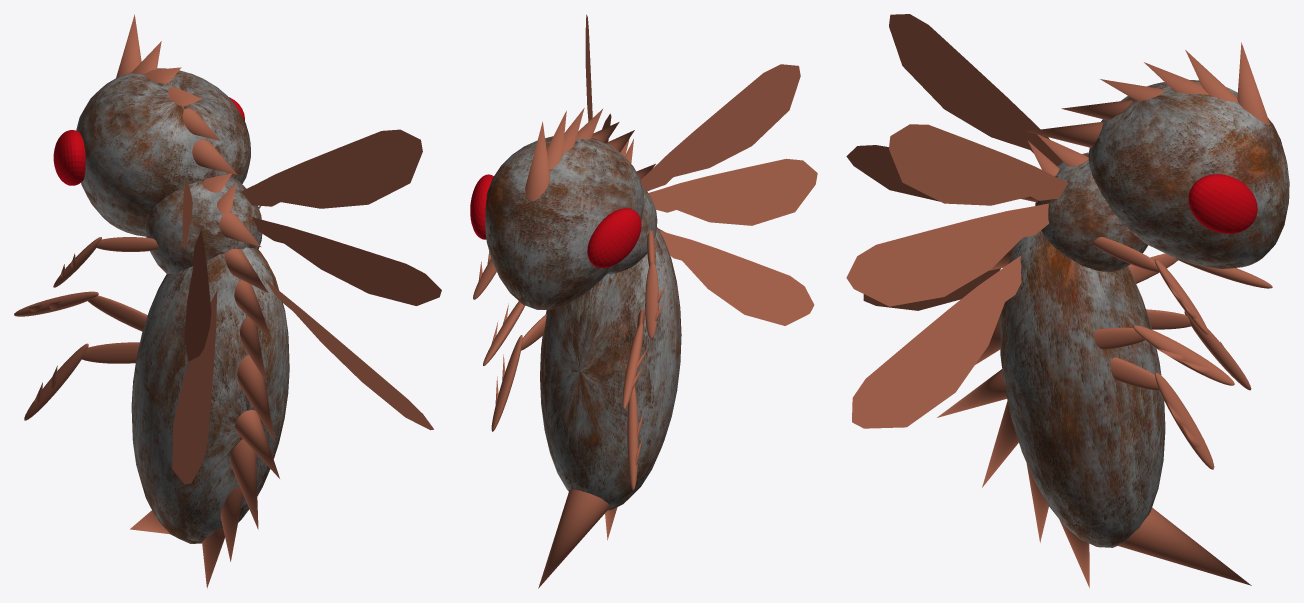
Rendered from wasp.fbx.
3 views of the same model, side by side, from view 1: azimuth 30°, elevation 25°; view 2: azimuth 150°, elevation 25°; view 3: azimuth 270°, elevation 25° (orthographic). The views are drawn at different scales.
Visible parts, largest first — view 1: Sphere.001, tete, naile.002, spike.017, naile, naile.001, Sphere, spike.005, Sphere.004, Sphere.002, noeil, Sphere.003 (+1 smaller); view 2: Sphere.001, tete, naile.002, naile, naile.001, noeil, spike.005, spike.017, Sphere.004, Sphere.002, Sphere.003, Sphere; view 3: Sphere.001, tete, naile.002, naile.001, naile, spike.017, Sphere, spike.005, Sphere.004, Sphere.002, noeil, Sphere.003 (+1 smaller).
Part boxes in pixels (bbox=[...]): Sphere.001: bbox=[131, 247, 289, 543]; tete: bbox=[76, 68, 250, 236]; naile.002: bbox=[182, 129, 422, 248]; spike.017: bbox=[130, 248, 279, 588]; naile: bbox=[184, 217, 441, 361]; naile.001: bbox=[172, 278, 433, 484]; Sphere: bbox=[145, 177, 262, 274]; spike.005: bbox=[116, 14, 237, 174]; Sphere.004: bbox=[24, 342, 139, 420]; Sphere.002: bbox=[14, 291, 147, 331]; noeil: bbox=[53, 97, 244, 185]; Sphere.003: bbox=[53, 206, 260, 287]; Sphere.001: bbox=[540, 227, 681, 510]; tete: bbox=[485, 136, 644, 309]; naile.002: bbox=[585, 14, 800, 191]; naile: bbox=[602, 113, 817, 225]; naile.001: bbox=[659, 231, 814, 325]; noeil: bbox=[470, 174, 641, 267]; spike.005: bbox=[525, 108, 634, 201]; spike.017: bbox=[538, 228, 664, 588]; Sphere.004: bbox=[491, 314, 643, 490]; Sphere.002: bbox=[483, 301, 648, 409]; Sphere.003: bbox=[473, 230, 665, 339]; Sphere: bbox=[607, 186, 657, 274]; Sphere.001: bbox=[1000, 230, 1165, 547]; tete: bbox=[1088, 80, 1289, 268]; naile.002: bbox=[889, 14, 1068, 205]; naile.001: bbox=[852, 255, 1021, 428]; naile: bbox=[846, 145, 1048, 306]; spike.017: bbox=[937, 247, 1251, 588]; Sphere: bbox=[1035, 152, 1148, 271]; spike.005: bbox=[1025, 42, 1269, 147]; Sphere.004: bbox=[1110, 309, 1251, 469]; Sphere.002: bbox=[1094, 253, 1272, 385]; noeil: bbox=[1188, 174, 1257, 233]; Sphere.003: bbox=[1093, 237, 1208, 334].
Size of the model in its own units: 120 by 245 by 180.
